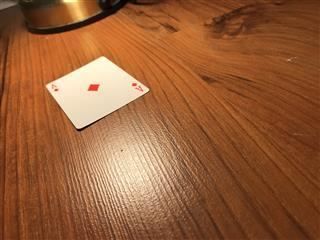AceOfDiamonds: (45, 55, 149, 129)
